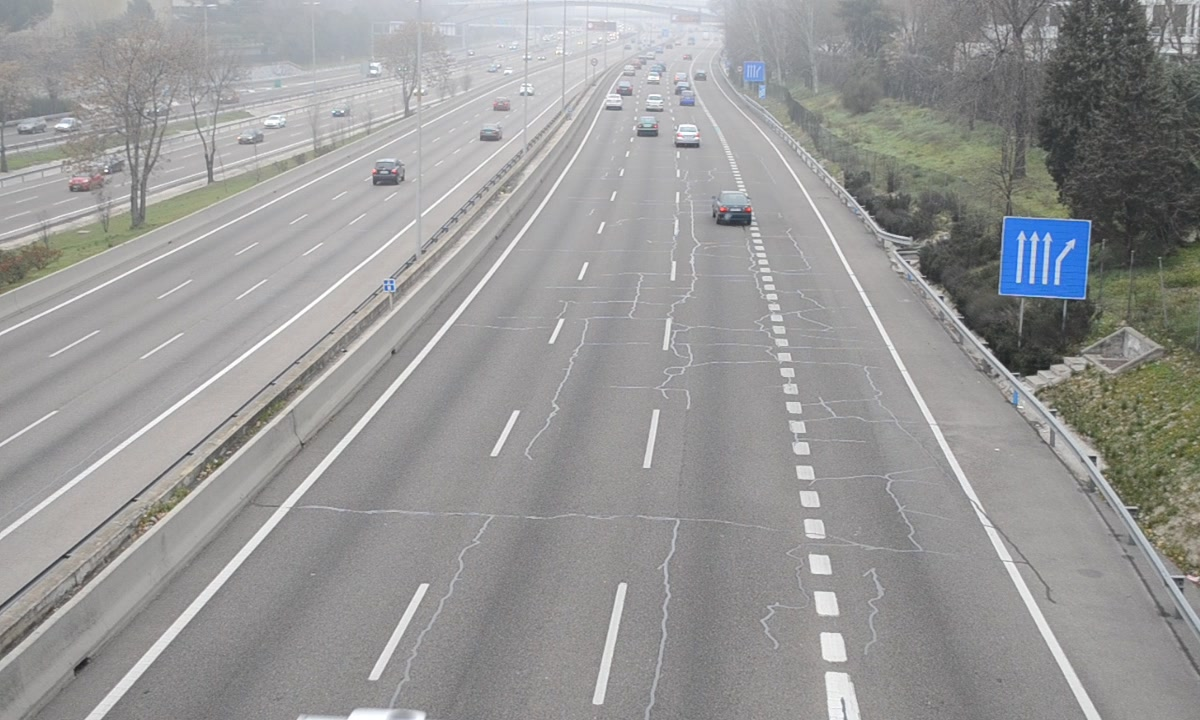car: (714, 190, 754, 226), (673, 122, 702, 149)
